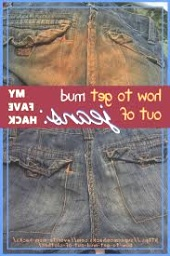earth: (40, 41, 135, 83)
